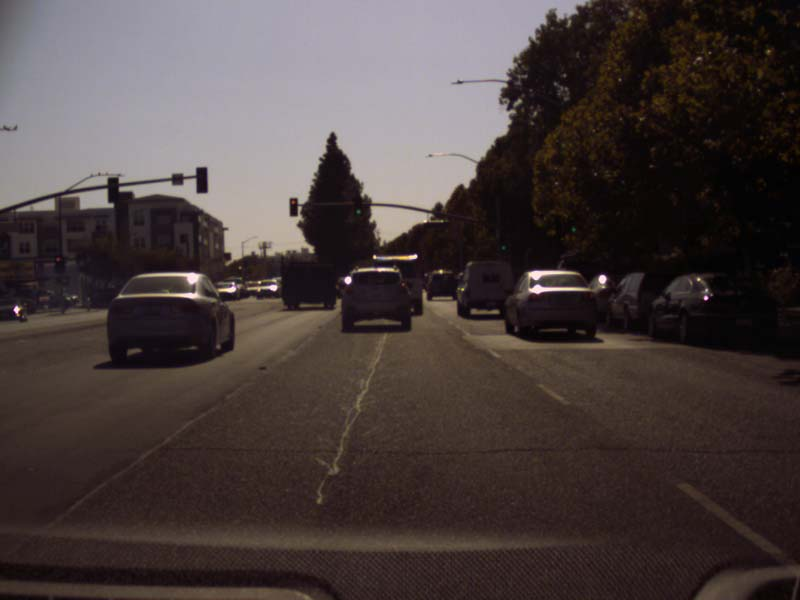Green: (354, 197, 362, 215), (499, 236, 507, 252), (568, 225, 577, 233)
Red: (54, 255, 64, 273), (289, 198, 297, 215), (237, 264, 242, 275)
